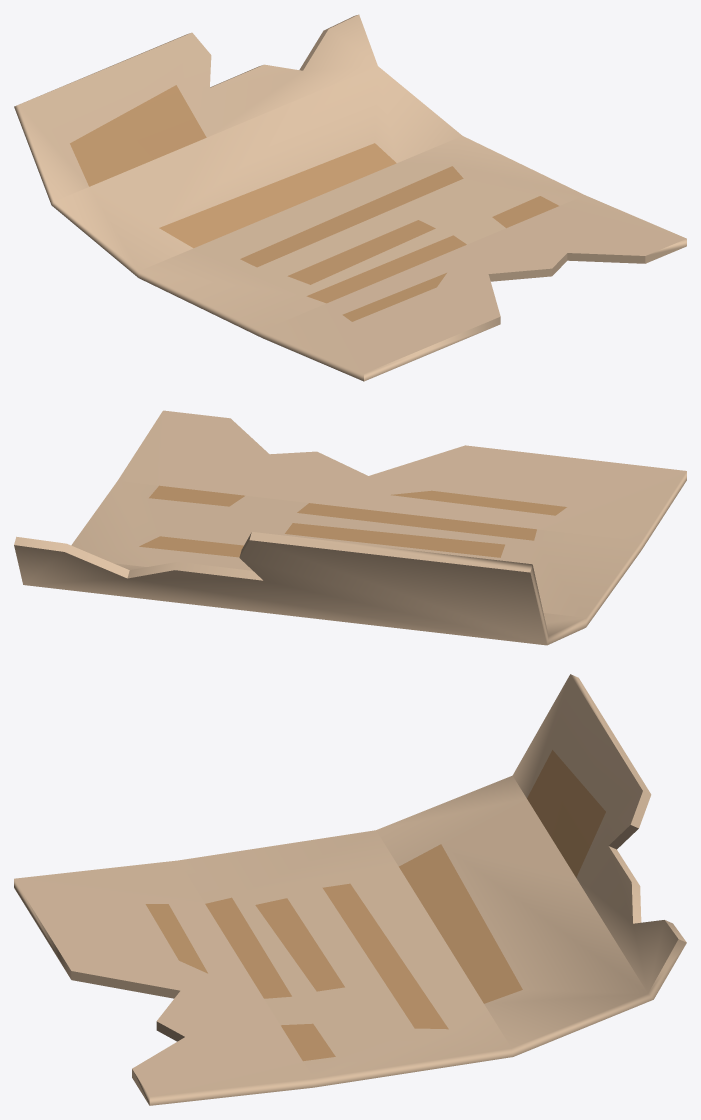
File: Asset_EveNote.fbx
The picture shows the model from 3 angles, top to bottom: view 1: azimuth 30°, elevation 25°; view 2: azimuth 150°, elevation 25°; view 3: azimuth 270°, elevation 25°; orthographic projection. The views are drawn at different scales.
Parts seen in each view (by area): view 1: Asset_EveNote; view 2: Asset_EveNote; view 3: Asset_EveNote.
Boxes of the visible parts, <box> form: Asset_EveNote: <box>14,14,686,381</box>; Asset_EveNote: <box>14,410,686,645</box>; Asset_EveNote: <box>14,674,686,1105</box>.
Bounding box in the file's own units: 32.91 × 8.31 × 33.33.
